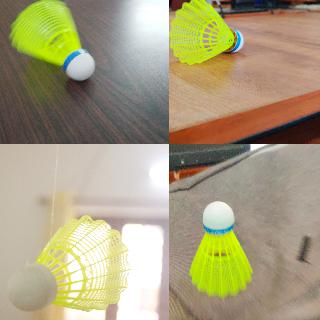shuttlecock: (8, 215, 130, 311), (9, 0, 96, 80), (188, 201, 254, 297), (169, 0, 244, 66)
